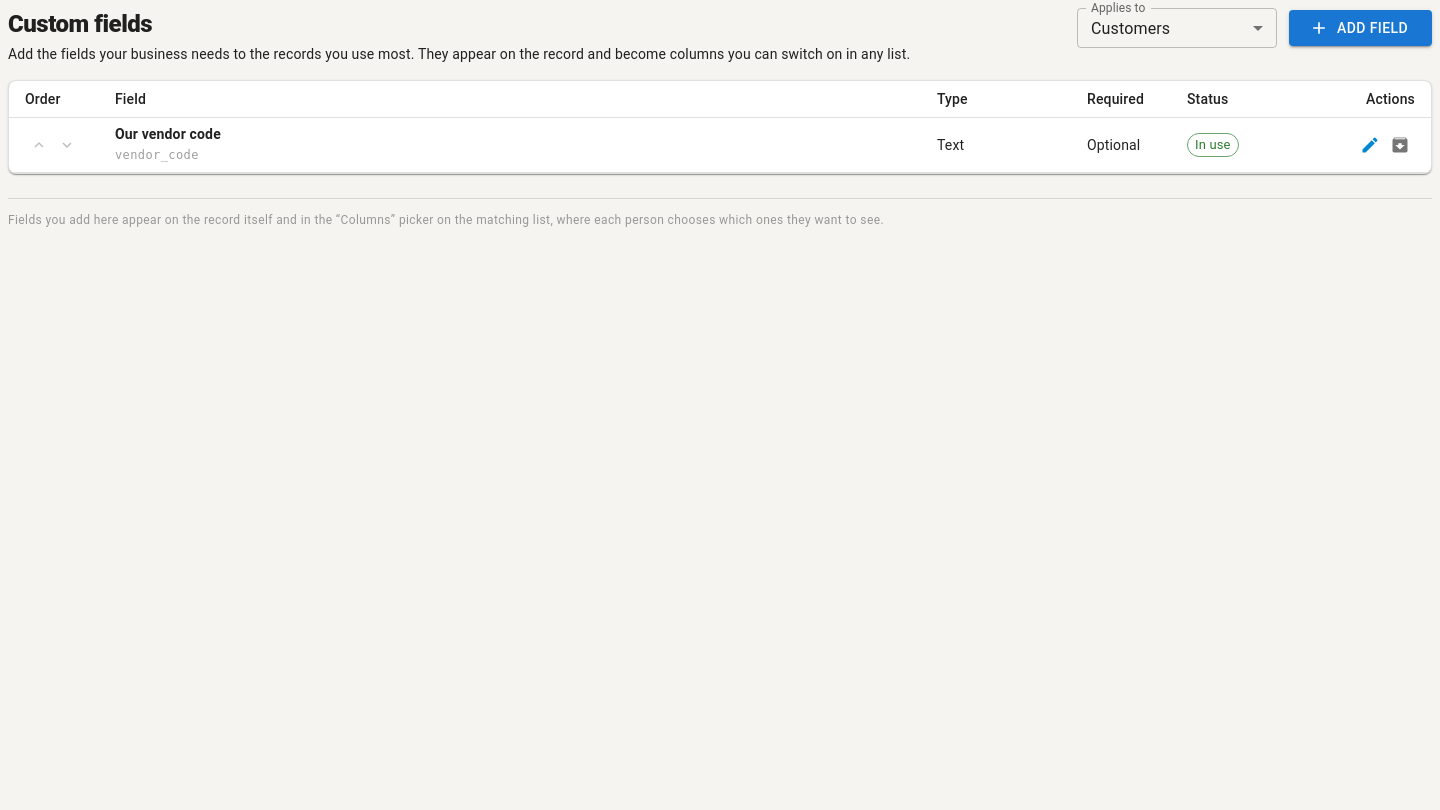
Test: CustomFieldsPage › locks the key when editing and explains why
The width and height of the screenshot is (1440, 810).
Expected: the text "Our vendor code" is shown, 115,126 -> 221,142
Click the button named "Edit vendor_code".
click(1370, 145)  # box 1355,130 -> 1385,160
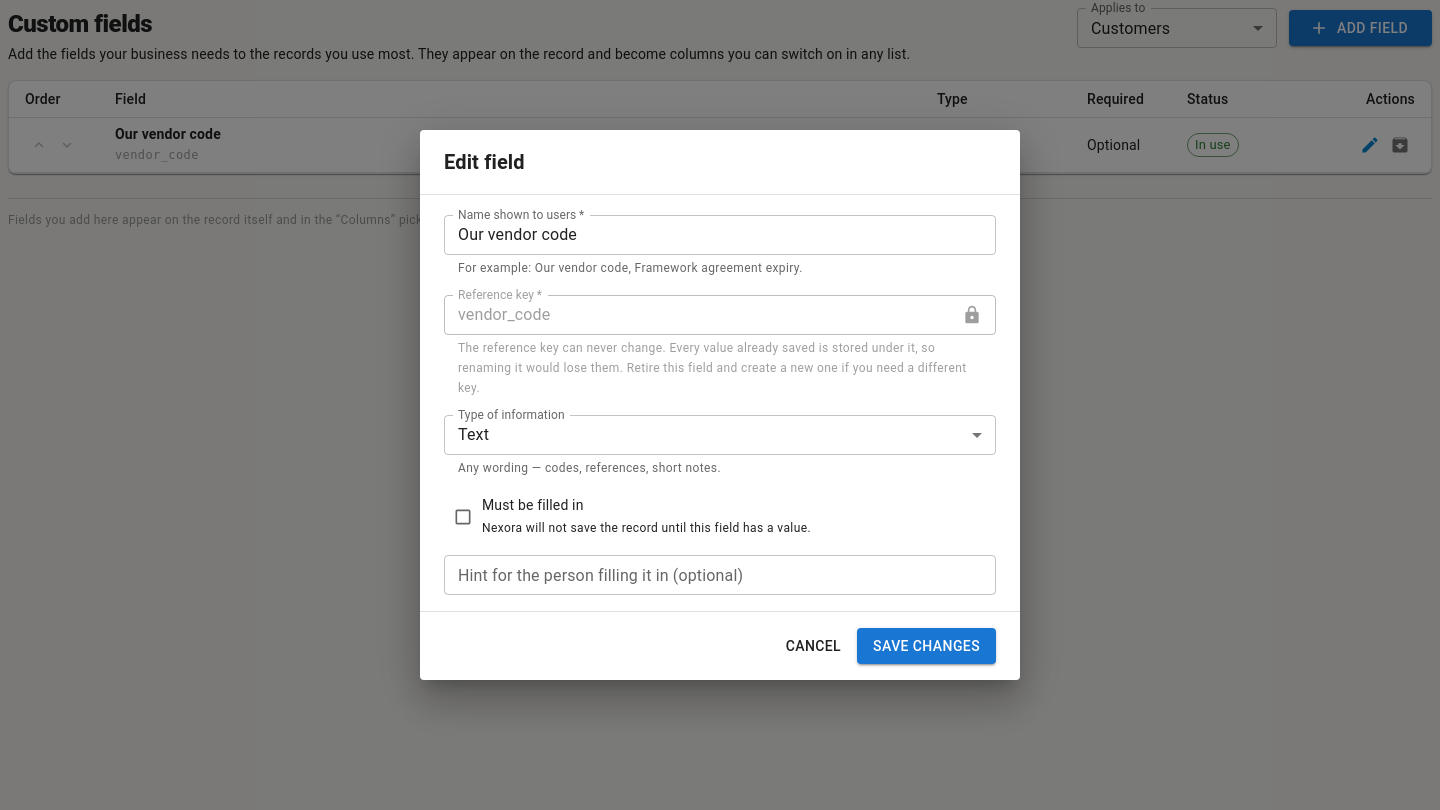
Result: the field labelled "Reference key *" is disabled at 444,295 -> 962,335
Result: the text "renaming it would lose them" is shown at 458,341 -> 966,395
